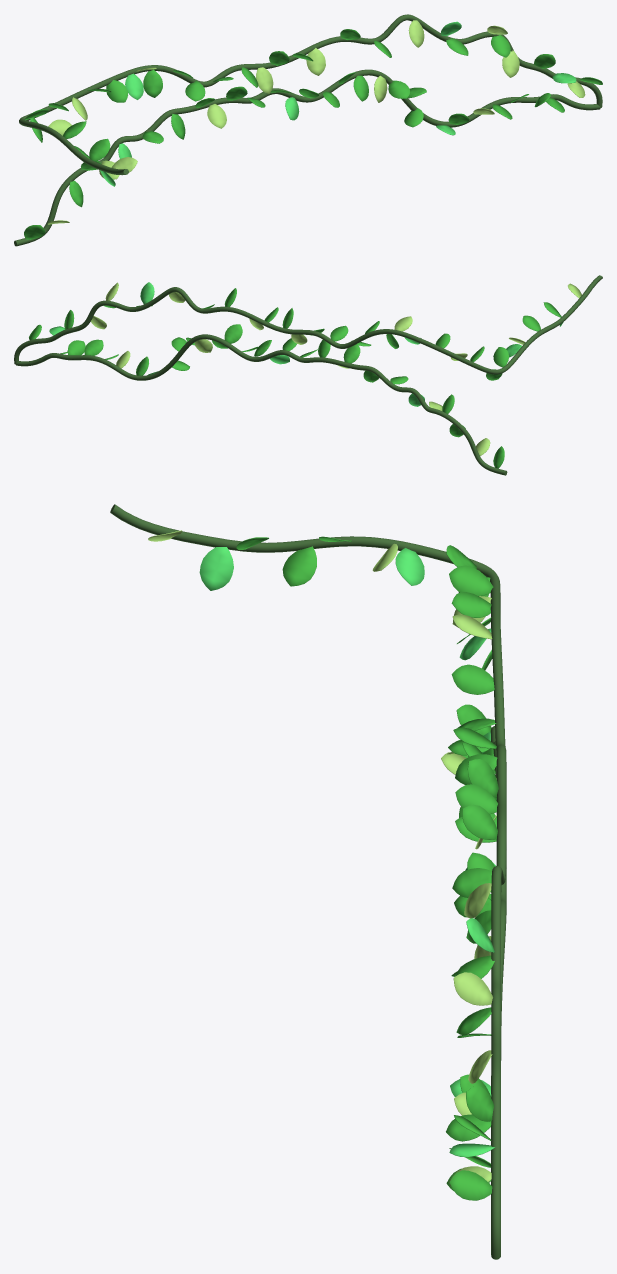
The model's file is WallPlant1.fbx.
3 views of the same model, one above another, from view 1: azimuth 30°, elevation 25°; view 2: azimuth 150°, elevation 25°; view 3: azimuth 270°, elevation 25° (orthographic). The views are drawn at different scales.
Parts seen in each view (by area): view 1: NurbsPath; view 2: NurbsPath; view 3: NurbsPath.
Boxes of the visible parts, <box> form: NurbsPath: <box>14,14,602,246</box>; NurbsPath: <box>14,275,602,475</box>; NurbsPath: <box>110,504,506,1259</box>.
Size of the model in its own units: 4109 by 1111 by 1432.
